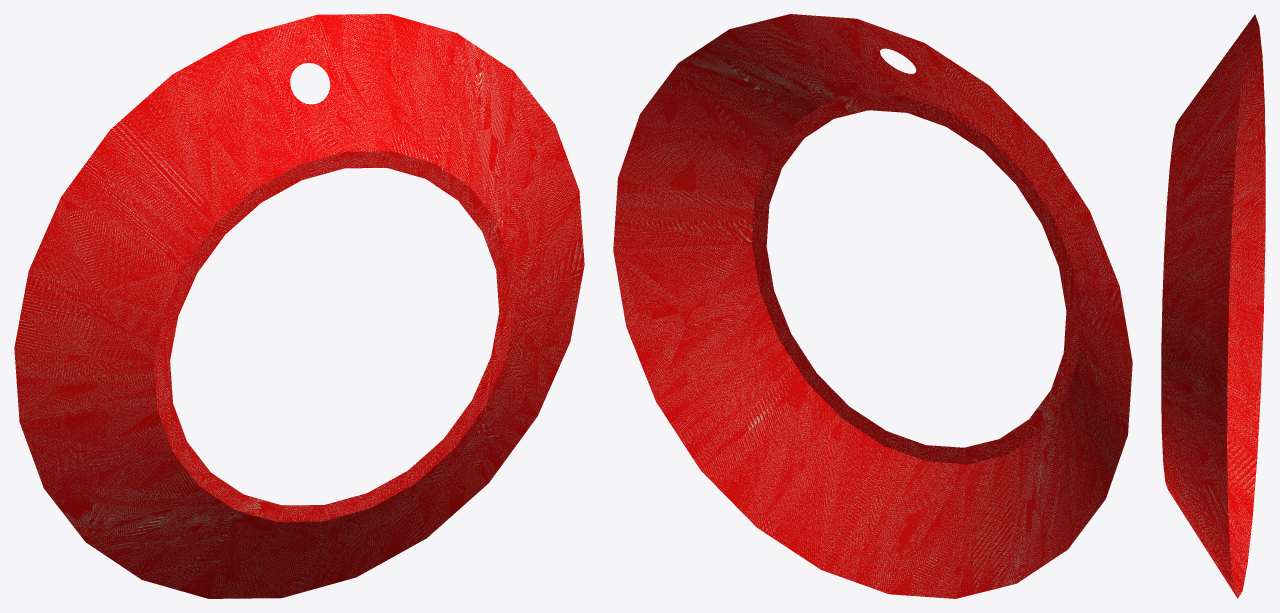
The model's file is original-68.obj.
3 renders of one model, left to right at view 1: azimuth 30°, elevation 25°; view 2: azimuth 150°, elevation 25°; view 3: azimuth 270°, elevation 25°, orthographic. The views are drawn at different scales.
Parts seen in each view (by area): view 1: 3dw.47c68395a5775e10d9deb3f829cc2475/Model/Component_18_1/Compon; view 2: 3dw.47c68395a5775e10d9deb3f829cc2475/Model/Component_18_1/Compon; view 3: 3dw.47c68395a5775e10d9deb3f829cc2475/Model/Component_18_1/Compon.
Part boxes in pixels (box(x1,y1,x2,y2)): 3dw.47c68395a5775e10d9deb3f829cc2475/Model/Component_18_1/Compon: box(14, 14, 584, 598); 3dw.47c68395a5775e10d9deb3f829cc2475/Model/Component_18_1/Compon: box(613, 14, 1132, 598); 3dw.47c68395a5775e10d9deb3f829cc2475/Model/Component_18_1/Compon: box(1161, 14, 1265, 598).
Size of the model in its own units: 0.0867 by 0.0869 by 0.0156.
